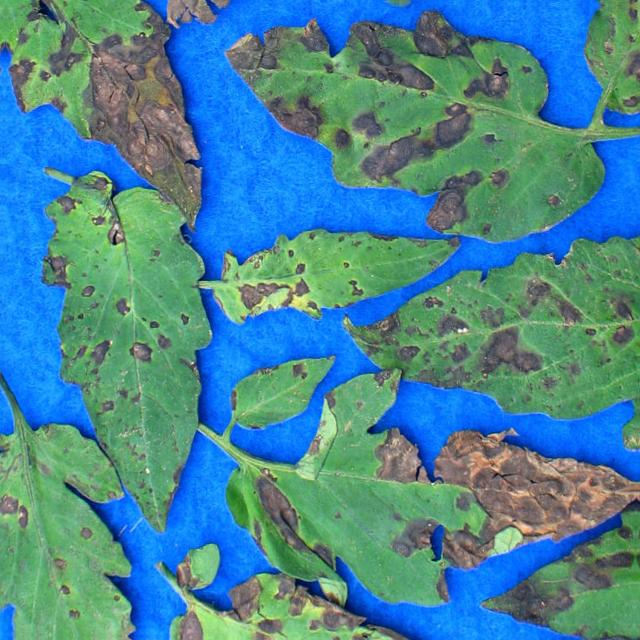Tomato Early blight leaf: (228, 11, 613, 238), (310, 188, 640, 439), (60, 163, 209, 516), (1, 0, 209, 235), (0, 409, 154, 637), (203, 225, 462, 335), (483, 476, 637, 640), (144, 572, 469, 640), (213, 343, 350, 452), (135, 0, 291, 42), (358, 1, 640, 9), (479, 627, 635, 640)
